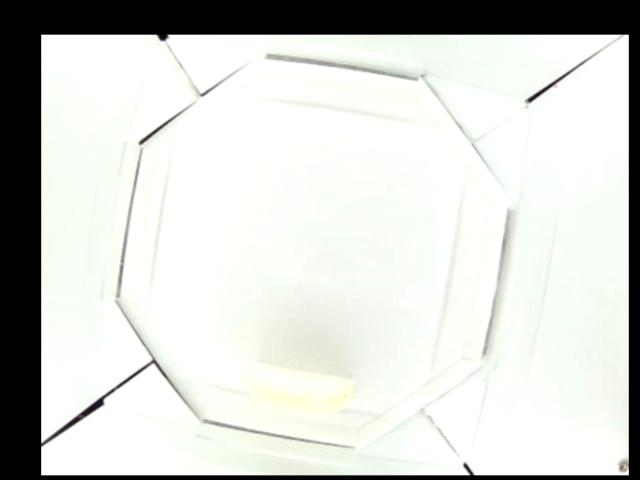Mooli: (246, 360, 356, 410)
